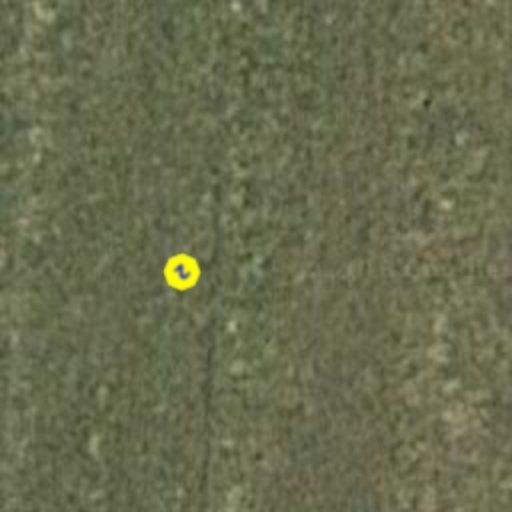octagon: (154, 244, 210, 300)
